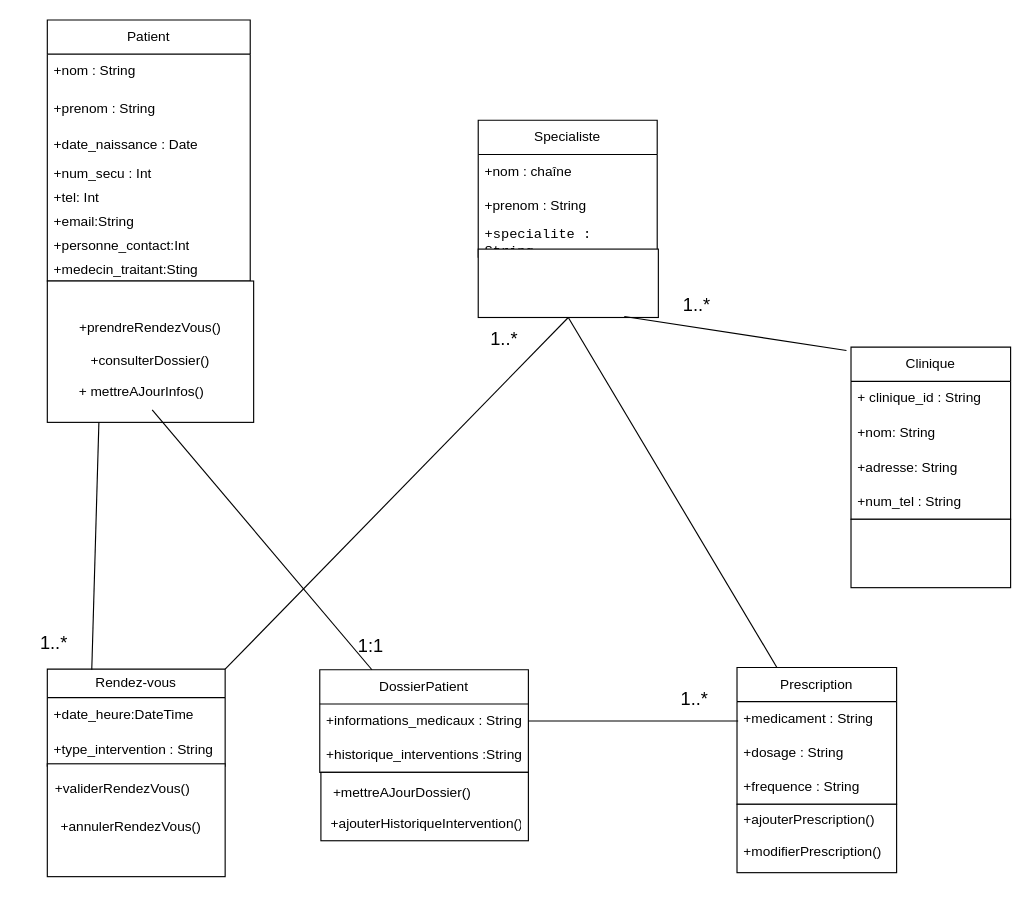
This 1031x897 diagram has some shape labels left out. The centre of each missing label's shape, as x and y in pixels:
+ajouterSpecialiste(): pixel 930 553
+consulterPatient(): pixel 567 282
